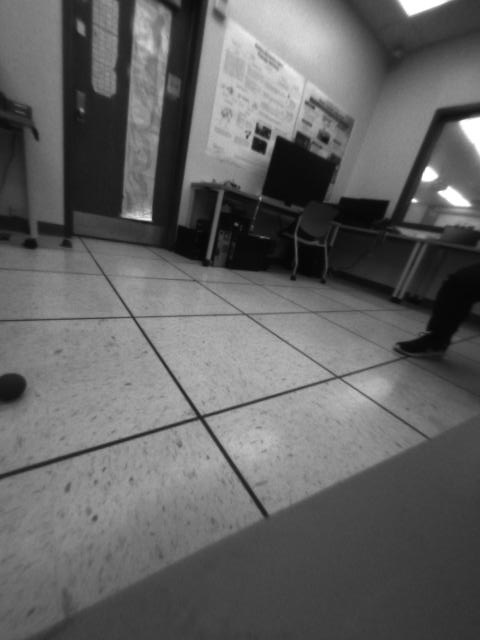dogtoy: (1, 364, 34, 414)
